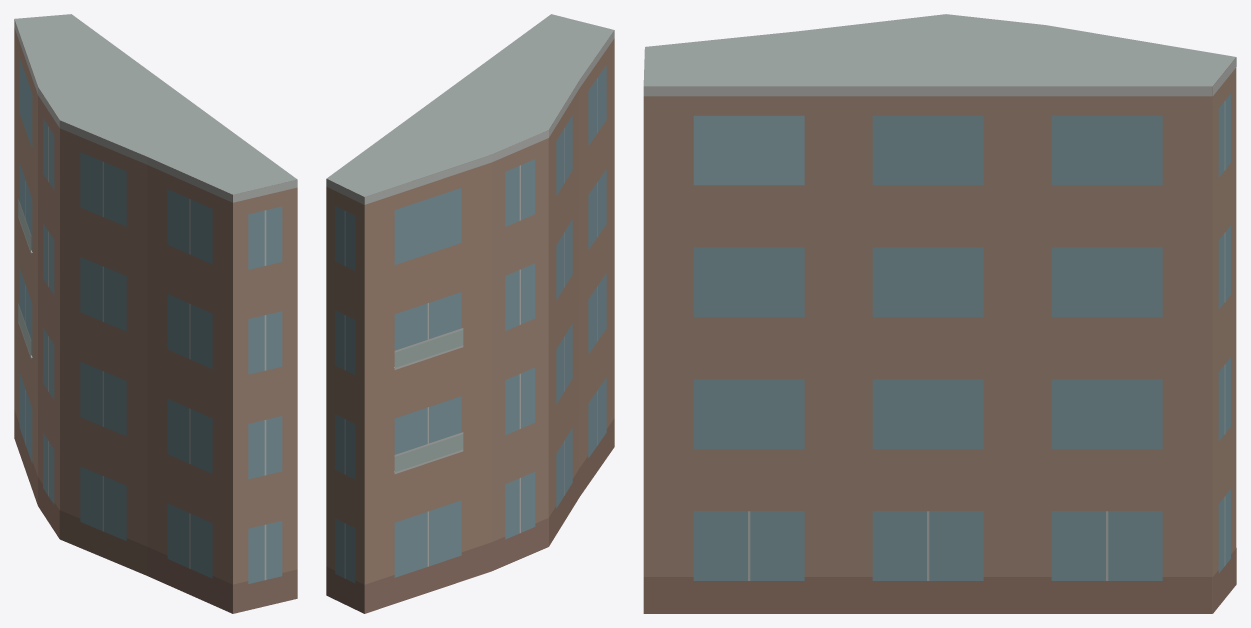
Rendered from survey-upis-32466429.glb.
3 renders of one model, left to right at view 1: azimuth 30°, elevation 25°; view 2: azimuth 150°, elevation 25°; view 3: azimuth 270°, elevation 25°, orthographic. The views are drawn at different scales.
Parts seen in each view (by area): view 1: survey-upis-32466429.tmp; view 2: survey-upis-32466429.tmp; view 3: survey-upis-32466429.tmp.
Part boxes in pixels (bbox=[...]): survey-upis-32466429.tmp: bbox=[14, 14, 297, 613]; survey-upis-32466429.tmp: bbox=[326, 14, 614, 613]; survey-upis-32466429.tmp: bbox=[643, 14, 1236, 613].
Size of the model in its own units: 3.77 by 12.8 by 13.05.
